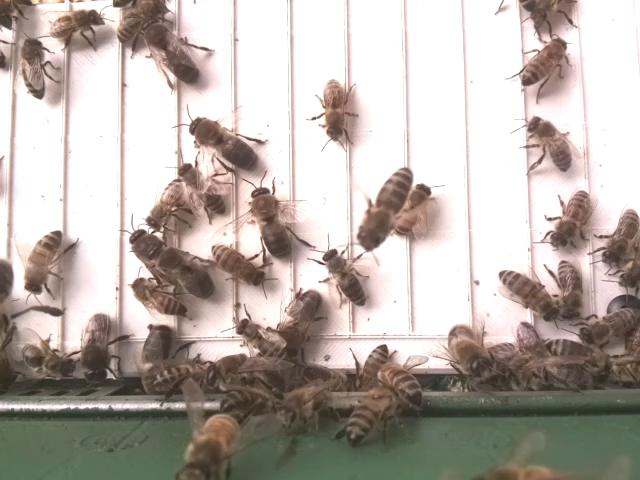Drone: (143, 238, 217, 302), (142, 16, 203, 87), (186, 115, 261, 171), (247, 184, 295, 261), (277, 288, 324, 359), (78, 309, 116, 386)
Worker: (359, 166, 412, 247), (498, 267, 556, 325), (22, 227, 63, 299), (517, 35, 570, 90), (210, 243, 268, 290), (129, 275, 189, 320), (322, 248, 367, 307), (142, 175, 190, 230), (547, 190, 593, 247), (526, 115, 570, 174), (177, 162, 225, 216), (237, 317, 289, 363), (115, 0, 168, 44), (576, 308, 640, 344), (18, 340, 77, 379), (603, 204, 640, 263), (17, 35, 49, 103), (553, 260, 587, 323), (50, 7, 105, 44), (321, 75, 350, 145), (395, 183, 430, 239)
